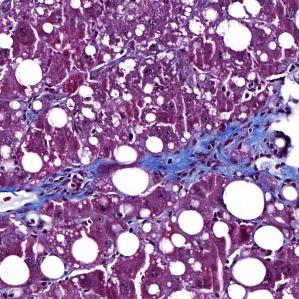fibrosis: (157, 119, 273, 192)
